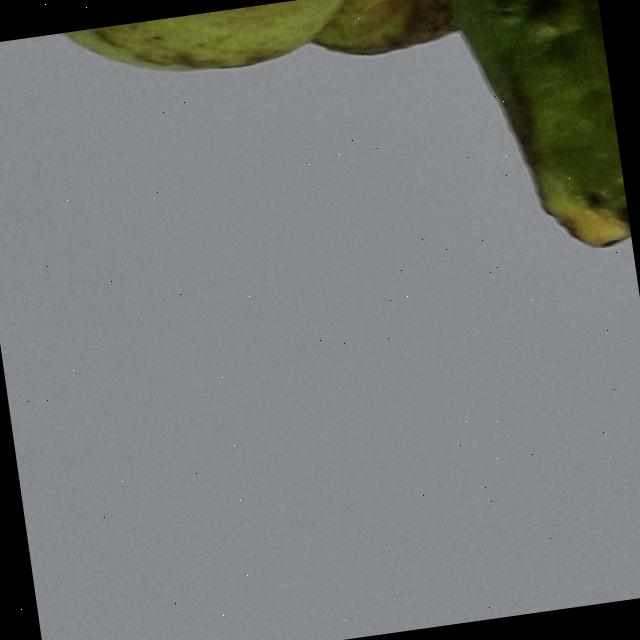mangosteen: (0, 0, 637, 369)
